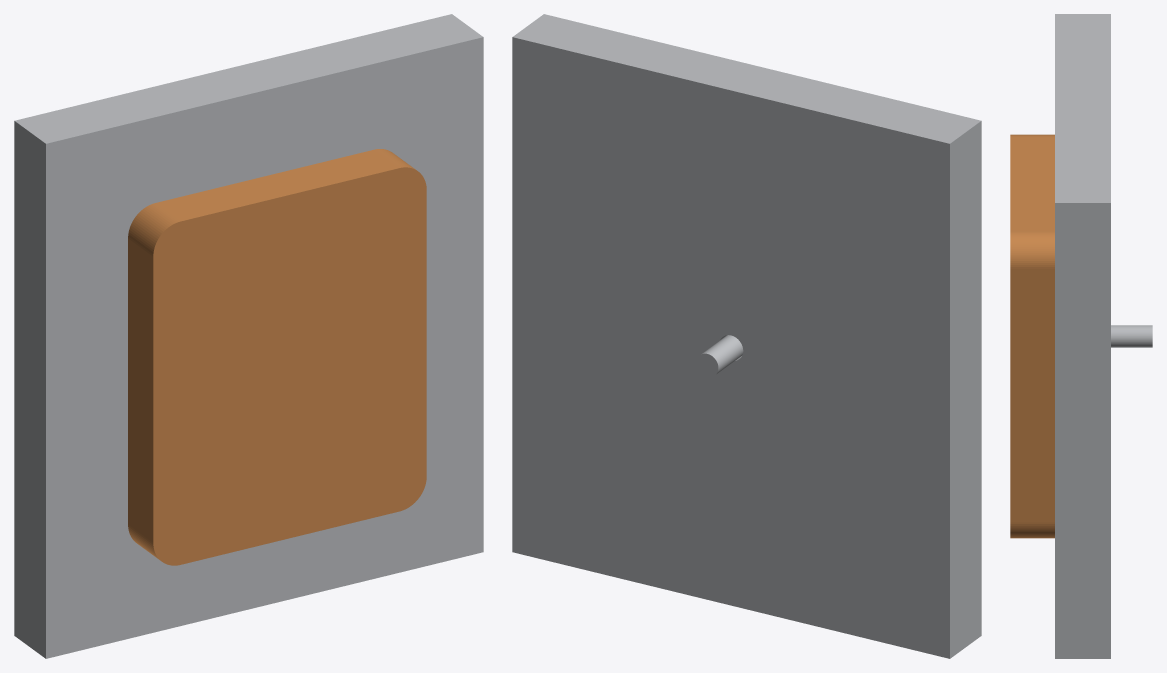
3 renders of one model, left to right at view 1: azimuth 30°, elevation 25°; view 2: azimuth 150°, elevation 25°; view 3: azimuth 270°, elevation 25°, orthographic. The views are drawn at different scales.
Visible parts, largest first — view 1: mur, plaque; view 2: mur, vis; view 3: mur, plaque, vis.
Part boxes in pixels (box(x1,y1,x2,y2)): mur: box(14, 14, 483, 658); plaque: box(128, 149, 426, 565); mur: box(512, 14, 981, 658); vis: box(696, 335, 743, 376); mur: box(1055, 14, 1110, 658); plaque: box(1010, 134, 1054, 538); vis: box(1111, 325, 1152, 347).
Bounding box in the file's own units: 80 × 90 × 25.5.
